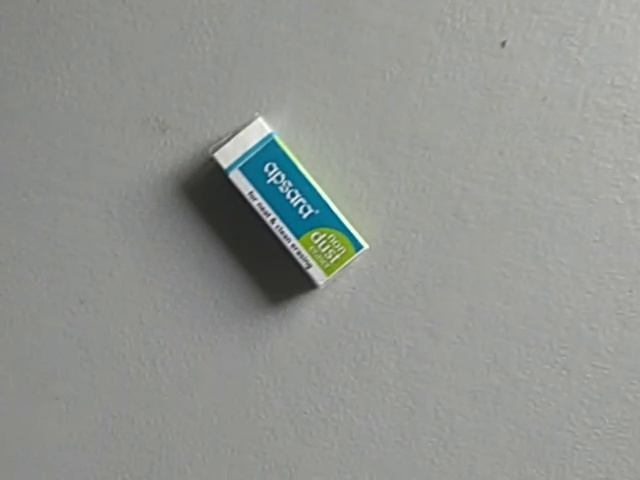Eraser: (194, 101, 379, 292)
